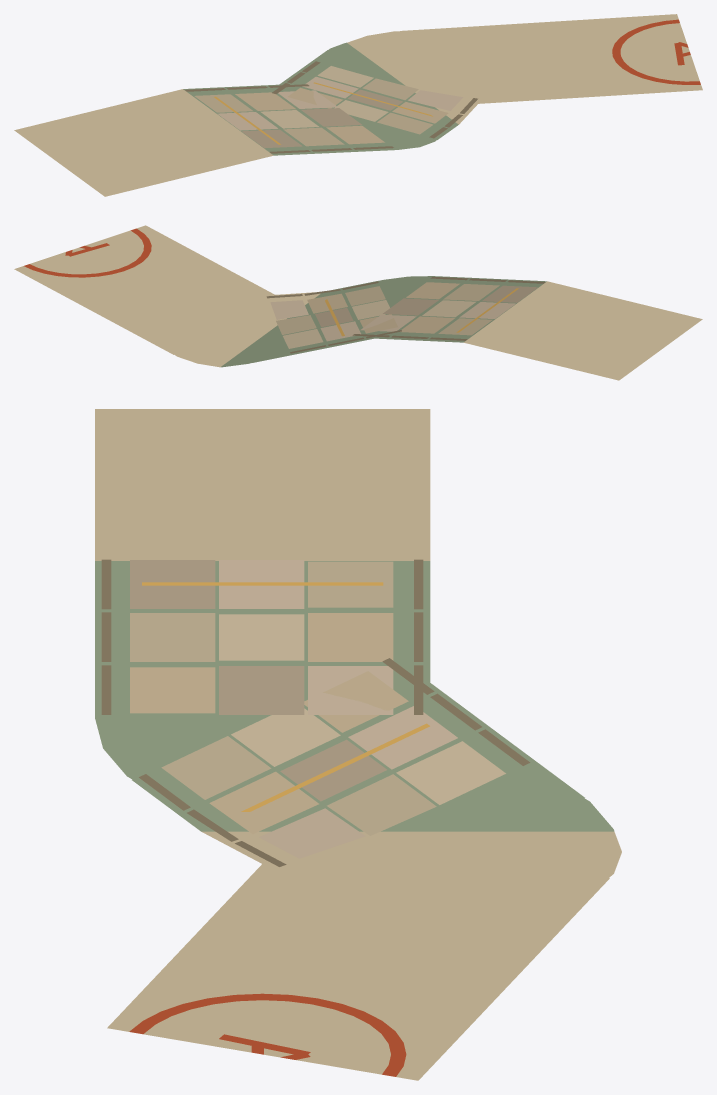
Rendered from route-bank-a-ramp.glb.
3 renders of one model, top to bottom at view 1: azimuth 30°, elevation 25°; view 2: azimuth 150°, elevation 25°; view 3: azimuth 270°, elevation 25°, orthographic. The views are drawn at different scales.
Parts seen in each view (by area): view 1: Surveyed floor · route-bank-a-ramp, Dry Bank to Ghat Mandapa / #BDAD8E, Dry Bank to Ghat Mandapa / #C7B399, Dry Bank to Ghat Mandapa / #C2AE8D, Dry Bank to Ghat Mandapa / #AE9D84, Dry Bank to Ghat Mandapa / #C9B798, Dry Bank to Ghat Mandapa / #85775D, Dry Bank to Ghat Mandapa / brass; view 2: Surveyed floor · route-bank-a-ramp, Dry Bank to Ghat Mandapa / #BDAD8E, Dry Bank to Ghat Mandapa / #C7B399, Dry Bank to Ghat Mandapa / #C2AE8D, Dry Bank to Ghat Mandapa / #AE9D84, Dry Bank to Ghat Mandapa / #C9B798, Dry Bank to Ghat Mandapa / #85775D, Dry Bank to Ghat Mandapa / brass; view 3: Surveyed floor · route-bank-a-ramp, Dry Bank to Ghat Mandapa / #BDAD8E, Dry Bank to Ghat Mandapa / #C2AE8D, Dry Bank to Ghat Mandapa / #C7B399, Dry Bank to Ghat Mandapa / #AE9D84, Dry Bank to Ghat Mandapa / #C9B798, Dry Bank to Ghat Mandapa / #85775D, Dry Bank to Ghat Mandapa / brass.
Part boxes in pixels (<box>): Surveyed floor · route-bank-a-ramp: <box>14,14,702,196</box>; Dry Bank to Ghat Mandapa / #BDAD8E: <box>194,78,432,146</box>; Dry Bank to Ghat Mandapa / #C7B399: <box>217,76,463,130</box>; Dry Bank to Ghat Mandapa / #C2AE8D: <box>235,87,448,144</box>; Dry Bank to Ghat Mandapa / #AE9D84: <box>241,89,402,148</box>; Dry Bank to Ghat Mandapa / #C9B798: <box>260,66,388,128</box>; Dry Bank to Ghat Mandapa / #85775D: <box>185,61,477,153</box>; Dry Bank to Ghat Mandapa / brass: <box>214,82,432,144</box>; Surveyed floor · route-bank-a-ramp: <box>14,225,702,380</box>; Dry Bank to Ghat Mandapa / #BDAD8E: <box>276,284,499,335</box>; Dry Bank to Ghat Mandapa / #C7B399: <box>270,300,515,341</box>; Dry Bank to Ghat Mandapa / #C2AE8D: <box>307,282,459,333</box>; Dry Bank to Ghat Mandapa / #AE9D84: <box>315,285,537,327</box>; Dry Bank to Ghat Mandapa / #C9B798: <box>283,300,476,348</box>; Dry Bank to Ghat Mandapa / #85775D: <box>266,277,545,353</box>; Dry Bank to Ghat Mandapa / brass: <box>325,288,518,336</box>; Surveyed floor · route-bank-a-ramp: <box>95,409,621,1080</box>; Dry Bank to Ghat Mandapa / #BDAD8E: <box>130,561,436,835</box>; Dry Bank to Ghat Mandapa / #C2AE8D: <box>130,613,408,833</box>; Dry Bank to Ghat Mandapa / #C7B399: <box>219,560,457,858</box>; Dry Bank to Ghat Mandapa / #AE9D84: <box>130,560,386,801</box>; Dry Bank to Ghat Mandapa / #C9B798: <box>219,614,505,804</box>; Dry Bank to Ghat Mandapa / #85775D: <box>101,559,530,866</box>; Dry Bank to Ghat Mandapa / brass: <box>142,582,429,811</box>.
Bounding box in the file's own units: 29.3 × 1.83 × 11.
